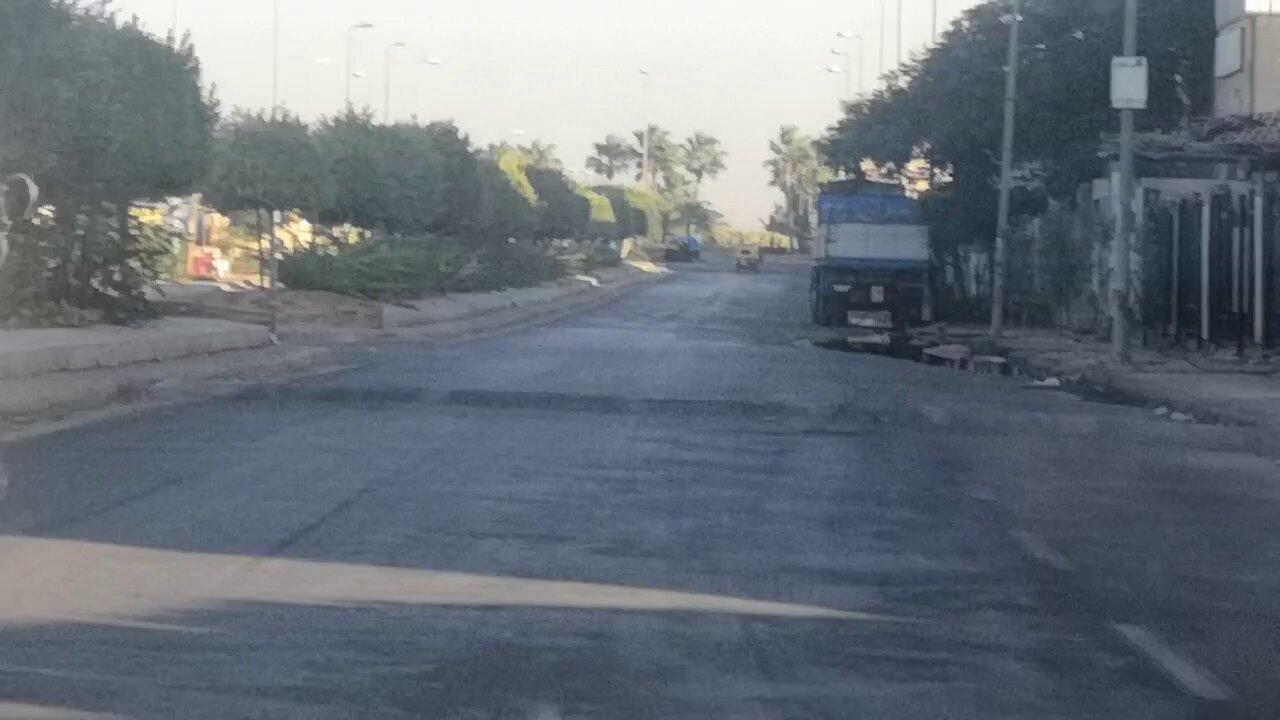Bump: (205, 378, 1210, 442)
